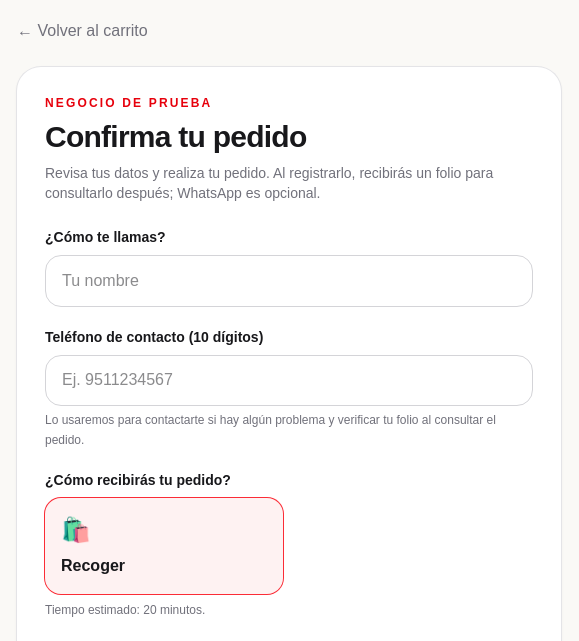
Test: OrderForm · errores › muestra el mensaje del servidor cuando se supera el límite anti-abuso (429)
In the field with placeholder "Tu nombre": (289, 281) [45,255,533,307], type "Ana Pérez"
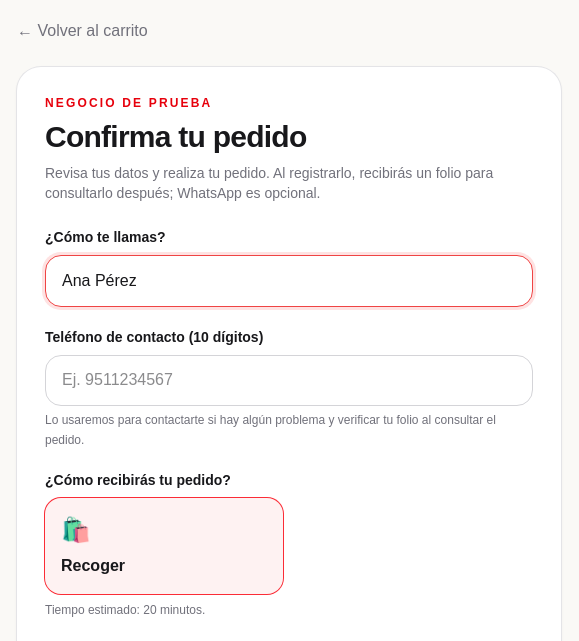
In the field with placeholder "Ej. 9511234567": (289, 380) [45,355,533,406], type "5512345678"
(page scrolled)
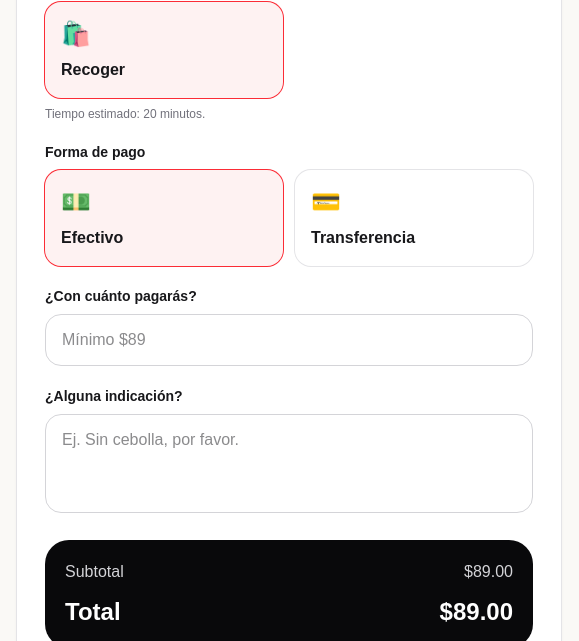
In the number field with placeholder "Mínimo $89": (289, 340) [45,314,533,366], type "100"
(page scrolled)
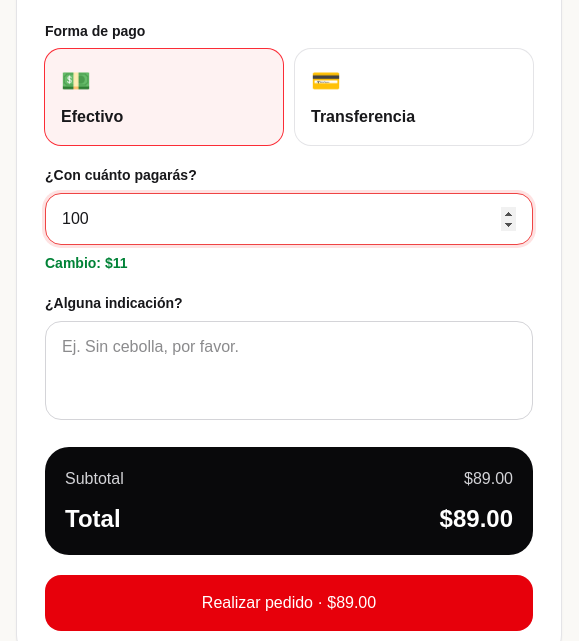
Click the button "Realizar pedido · $89.00": (289, 603) [45,575,533,631]
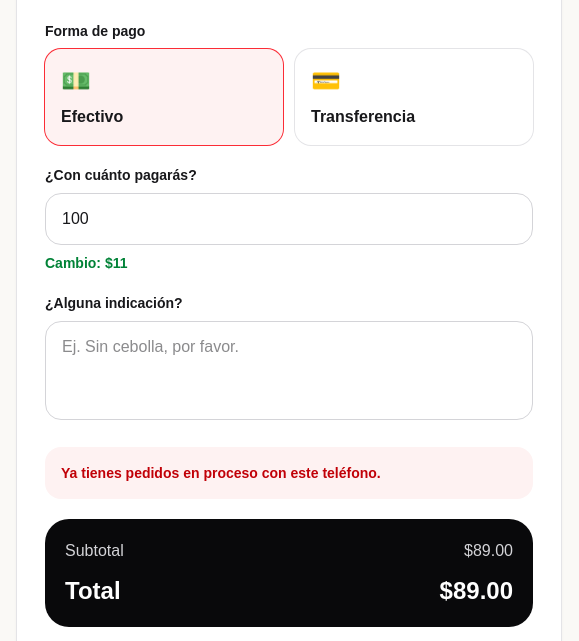
Expected: the text "Ya tienes pedidos en proceso con este teléfono." is shown, [45,447,533,499]
